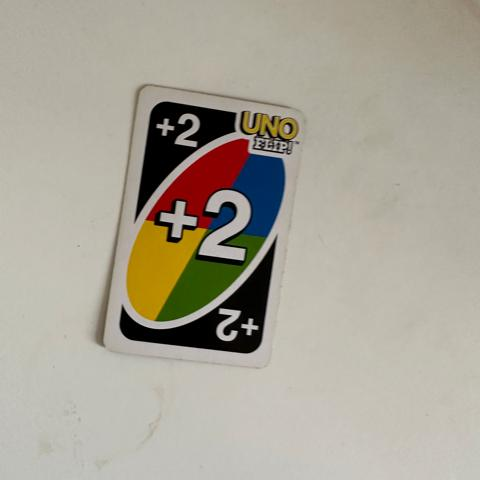lcolor2-50: (144, 95, 202, 157)
